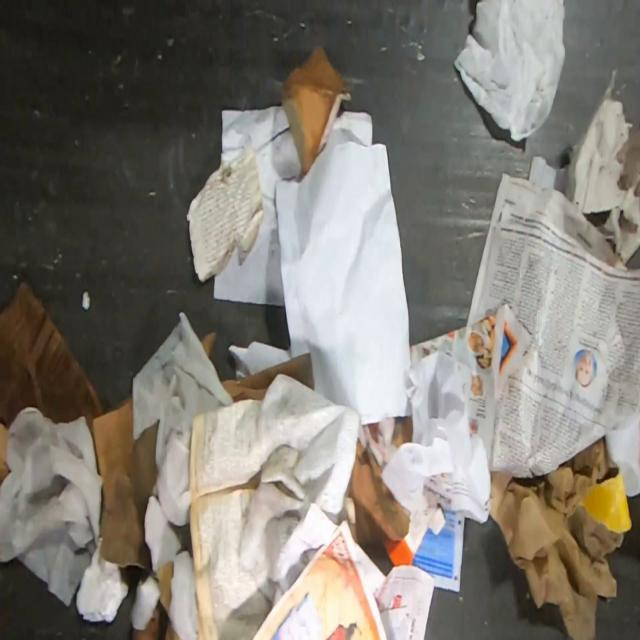cardboard: (84, 395, 200, 640), (0, 279, 104, 429), (280, 43, 353, 175), (221, 352, 314, 403), (0, 422, 12, 490), (200, 330, 218, 359)
soft_plastic: (453, 0, 566, 143)
